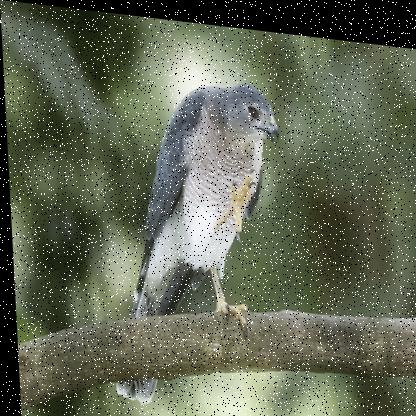Burung: (100, 64, 290, 415)
